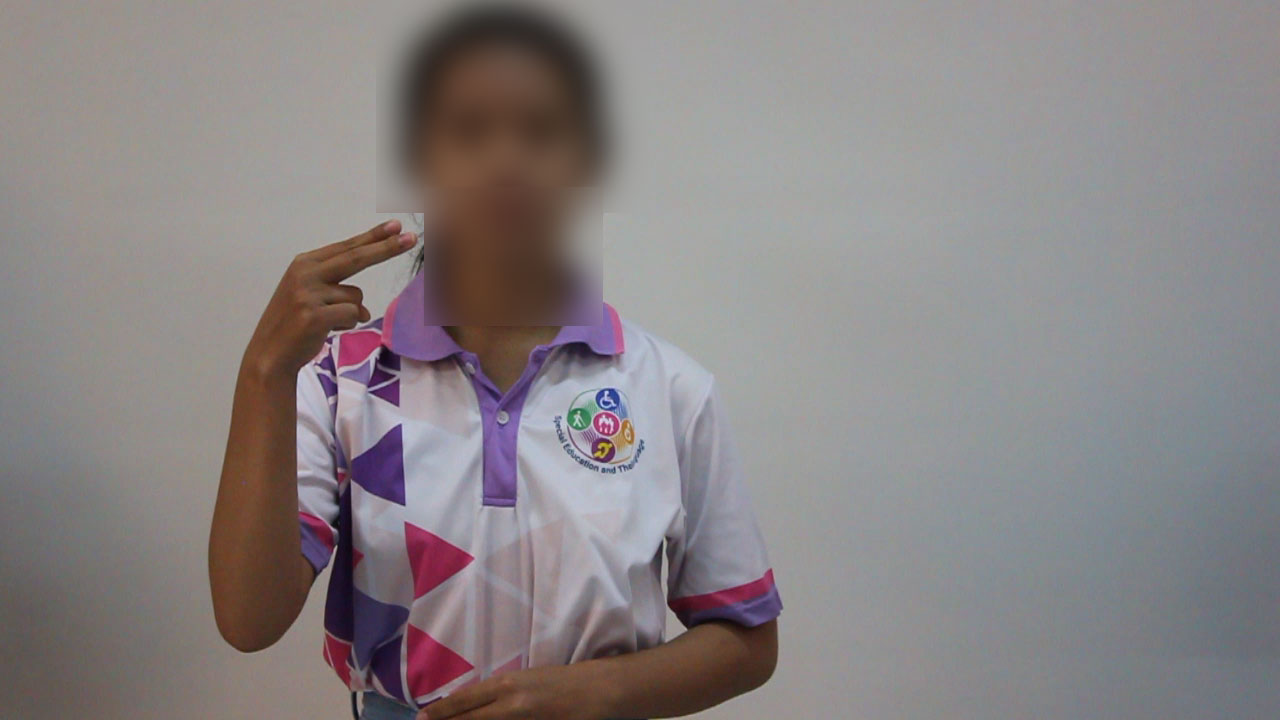hor: (249, 210, 431, 368)
